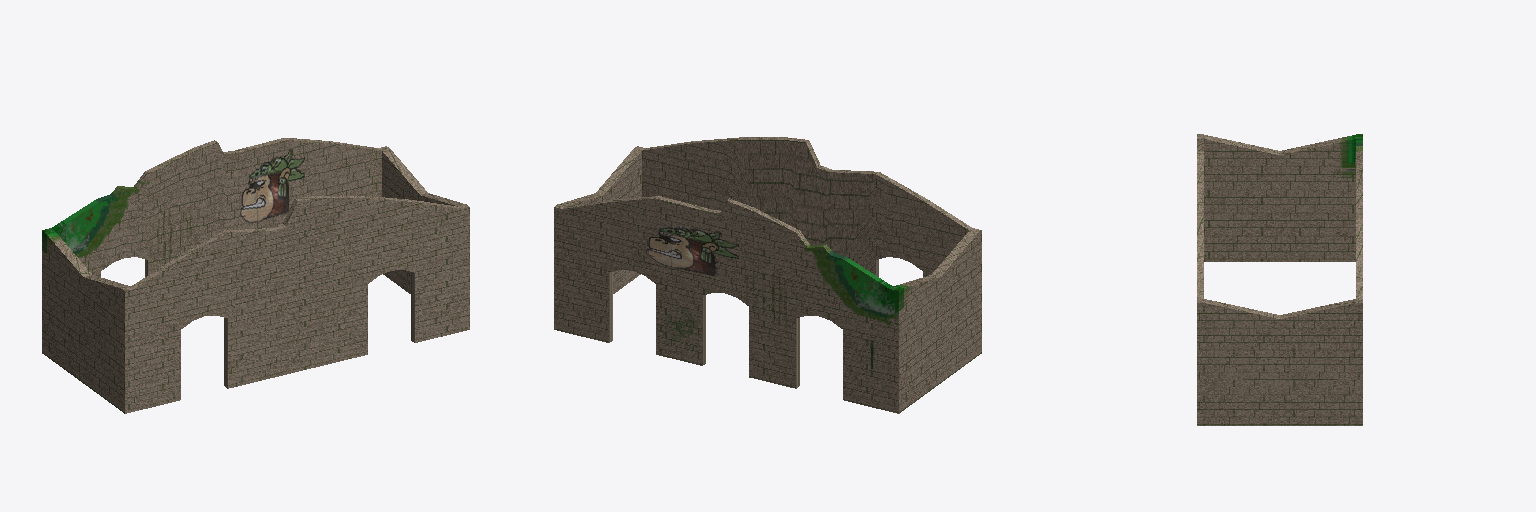
3 views of the same model, side by side, from view 1: azimuth 30°, elevation 25°; view 2: azimuth 150°, elevation 25°; view 3: azimuth 270°, elevation 25° (orthographic).
Parts seen in each view (by area): view 1: ciudad_pCylinder32polySurface35; view 2: ciudad_pCylinder32polySurface35; view 3: ciudad_pCylinder32polySurface35.
Part boxes in pixels (left/top/right/bottom): ciudad_pCylinder32polySurface35: left=42, top=138, right=469, bottom=413; ciudad_pCylinder32polySurface35: left=554, top=137, right=981, bottom=413; ciudad_pCylinder32polySurface35: left=1197, top=134, right=1362, bottom=425.
Size of the model in its own units: 27.24 by 12.89 by 11.37.
1 materials, 1 textured.